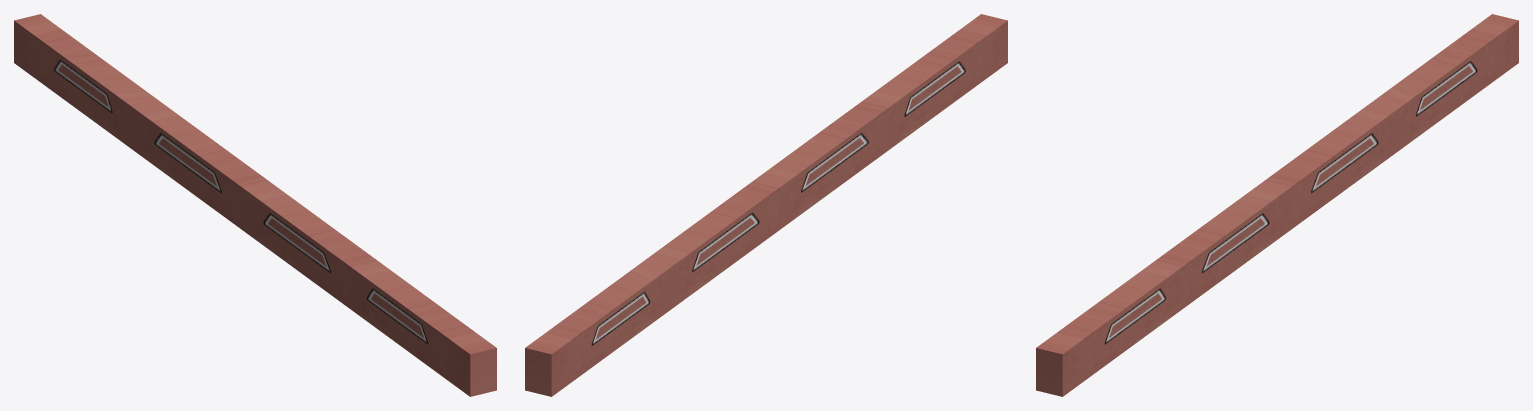
Rendered from SM_Hwaban02D.fbx.
3 views of the same model, side by side, from view 1: azimuth 30°, elevation 25°; view 2: azimuth 150°, elevation 25°; view 3: azimuth 330°, elevation 25° (orthographic).
Visible parts, largest first — view 1: SM_Hwaban02D; view 2: SM_Hwaban02D; view 3: SM_Hwaban02D.
Part boxes in pixels (x1,y1,x2,y2): SM_Hwaban02D: [14, 14, 496, 396]; SM_Hwaban02D: [525, 14, 1007, 396]; SM_Hwaban02D: [1036, 14, 1518, 396].
Bounding box in the file's own units: 9.1 × 270 × 13.9.
1 material, 1 textured.
